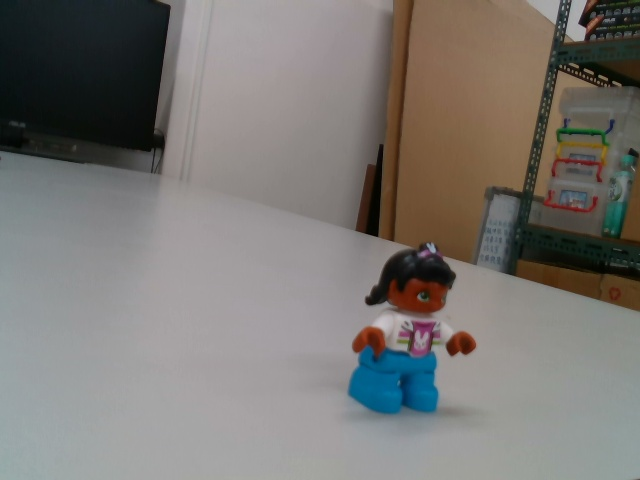people: (345, 239, 480, 417)
